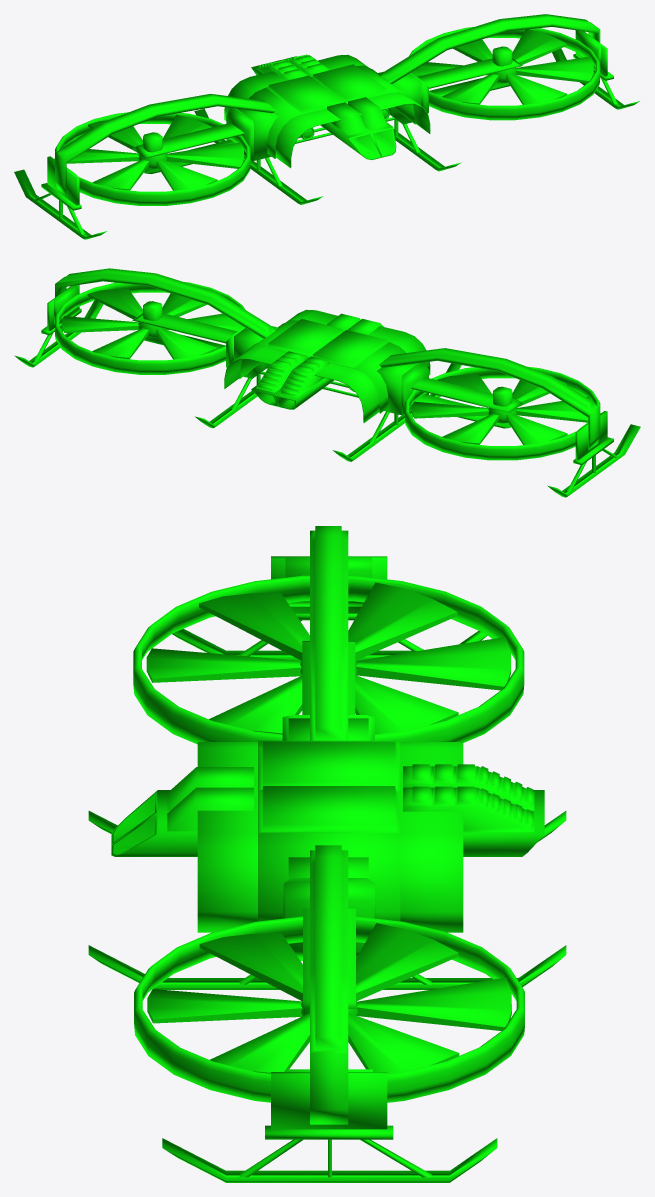
The model's file is Drone.dae.
3 views of the same model, one above another, from view 1: azimuth 30°, elevation 25°; view 2: azimuth 150°, elevation 25°; view 3: azimuth 270°, elevation 25° (orthographic). The views are drawn at different scales.
Parts seen in each view (by area): view 1: helicopter, Rotor_R_2, Rotor_L_2, Rotor_L, Rotor_R; view 2: helicopter, Rotor_R_2, Rotor_L_2, Rotor_R, Rotor_L; view 3: helicopter, Rotor_L, Rotor_R, Rotor_L_2, Rotor_R_2.
Boxes of the visible parts, bbox=[...] form: helicopter: bbox=[14, 14, 639, 239]; Rotor_R_2: bbox=[54, 108, 253, 205]; Rotor_L_2: bbox=[409, 27, 600, 120]; Rotor_L: bbox=[411, 29, 593, 104]; Rotor_R: bbox=[66, 115, 243, 190]; helicopter: bbox=[14, 268, 640, 497]; Rotor_R_2: bbox=[401, 362, 600, 460]; Rotor_L_2: bbox=[54, 282, 245, 374]; Rotor_R: bbox=[411, 374, 592, 444]; Rotor_L: bbox=[61, 289, 243, 359]; helicopter: bbox=[88, 526, 566, 1182]; Rotor_L: bbox=[147, 923, 511, 1073]; Rotor_R: bbox=[146, 582, 510, 734]; Rotor_L_2: bbox=[134, 878, 524, 1102]; Rotor_R_2: bbox=[133, 557, 524, 744].
Bounding box in the file's own units: 0.772 × 0.1241 × 0.2938.
